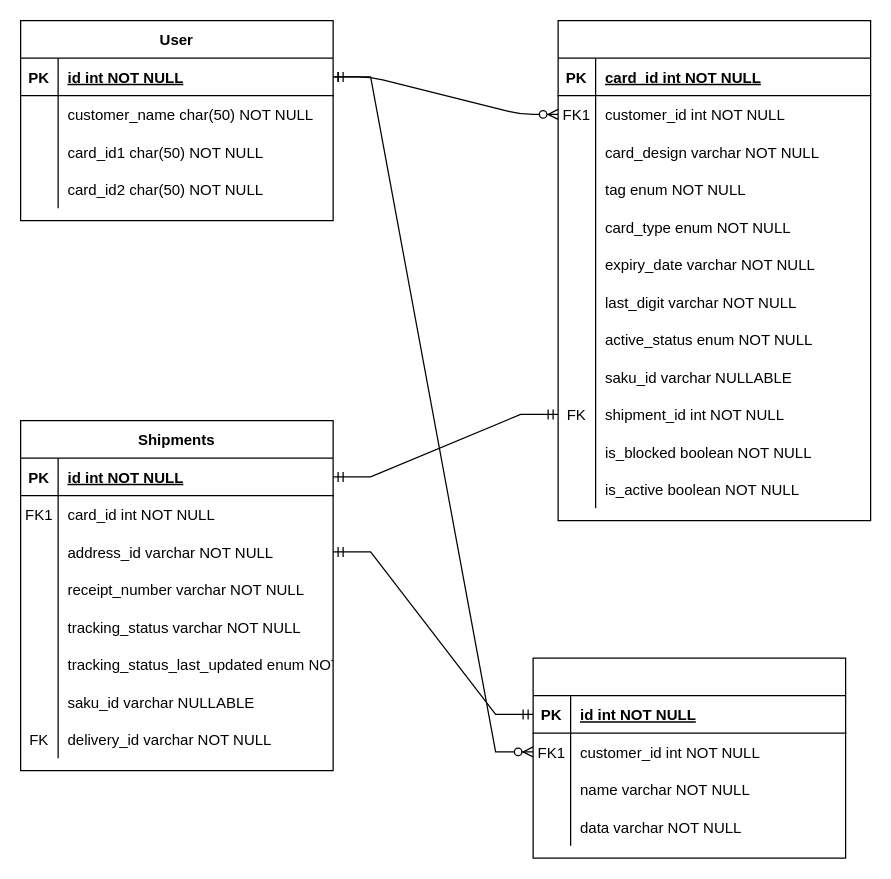
This 891x879 diagram has some shape labels left out. The shapes that lost their labels are listed below. From the top down, each one's box as (x1, y1, x2, y2) in pixels, then its label:
(557, 19, 871, 521): Cards
(532, 657, 846, 858): Address
